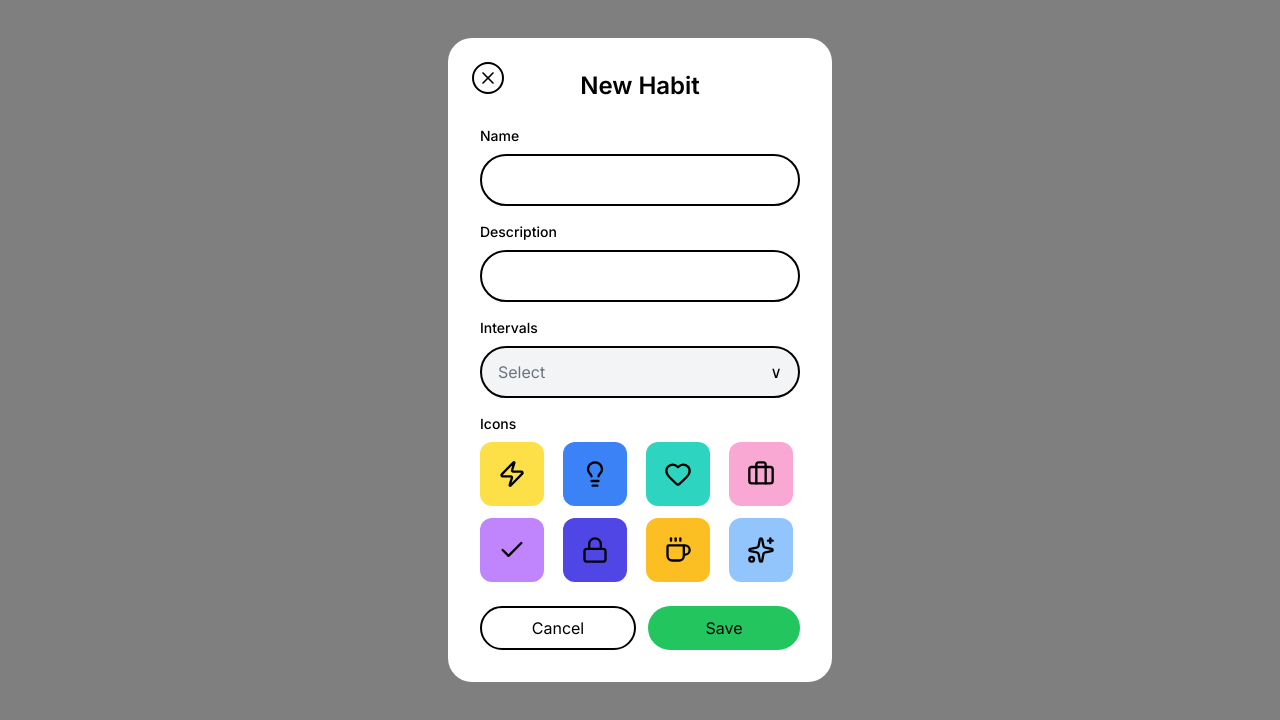
Test: HabitModal Component › selects interval from dropdown
# Open dropdown
What coordinates should you click on to do the following:
click the text "Select"
I would click on:
 (522, 372)
Its box is [498,360,545,384].
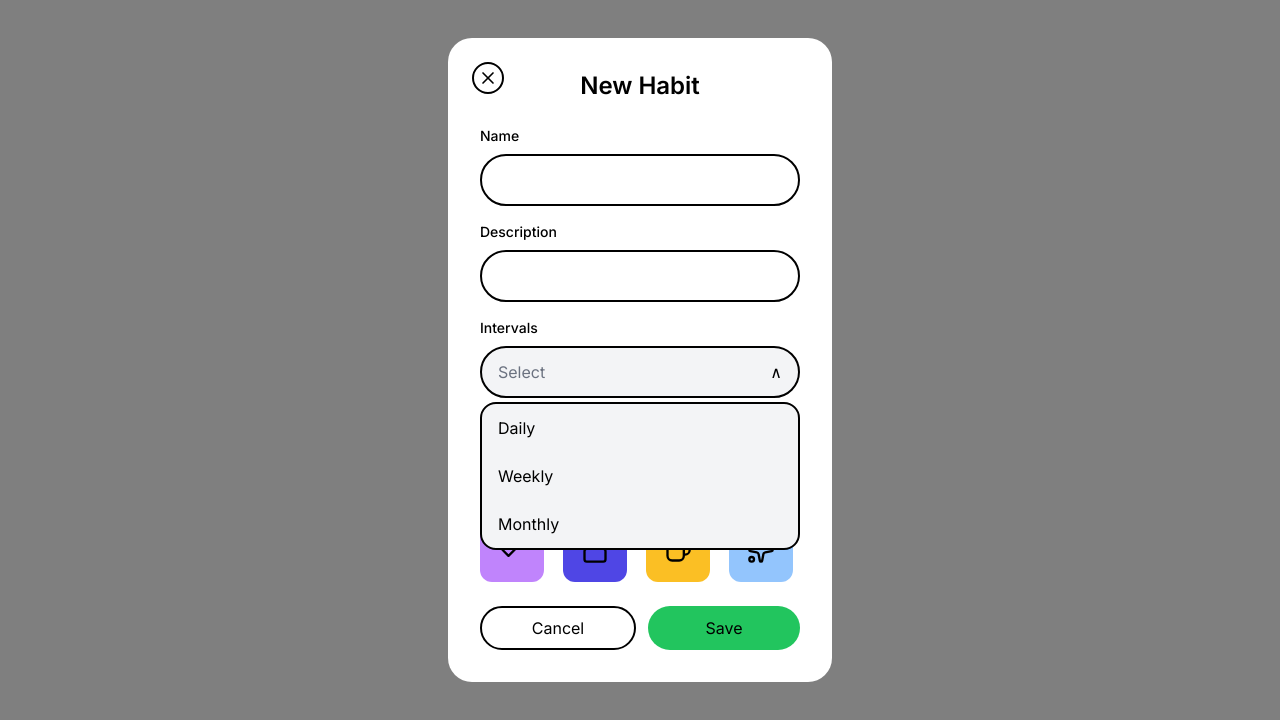
# Select Daily
What coordinates should you click on to do the following:
click the button "Daily"
I would click on:
 (517, 428)
Its box is [482,404,798,452].
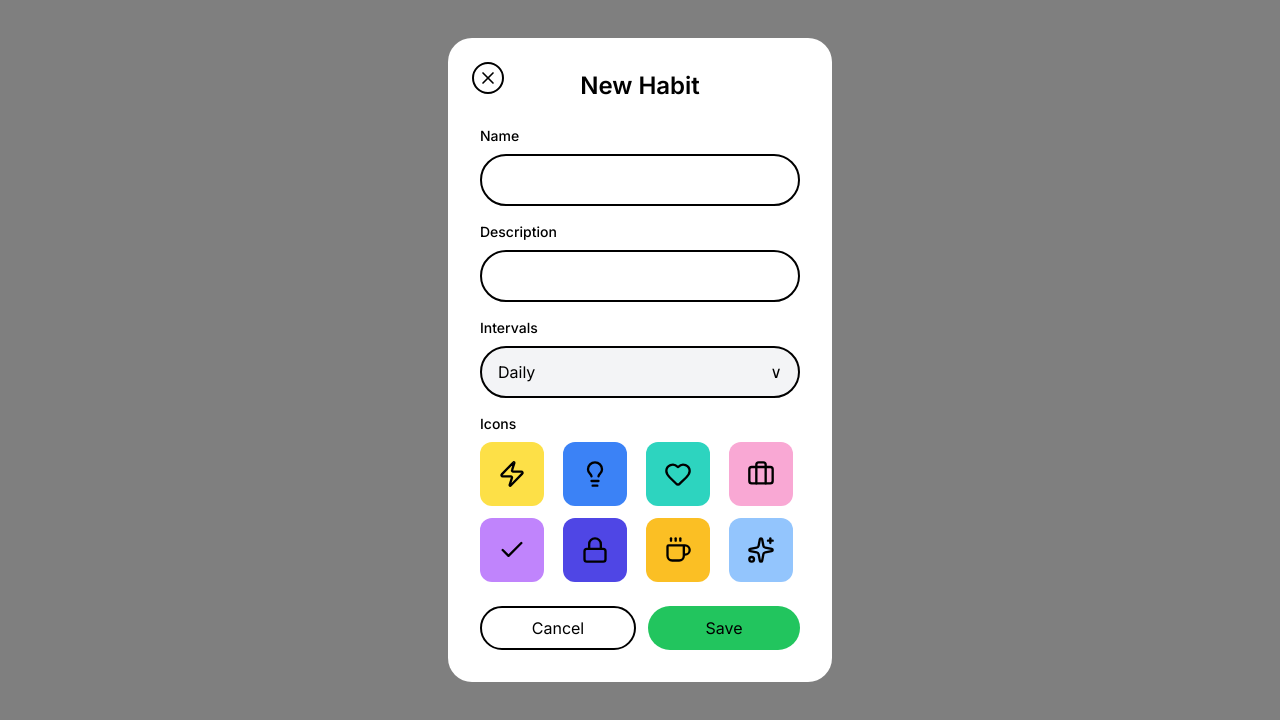
Expected: the button "Weekly" is gone
Expected: the text "Daily" is shown, [498,360,535,384]
Expected: the text "∨" is shown, [770,360,782,384]
